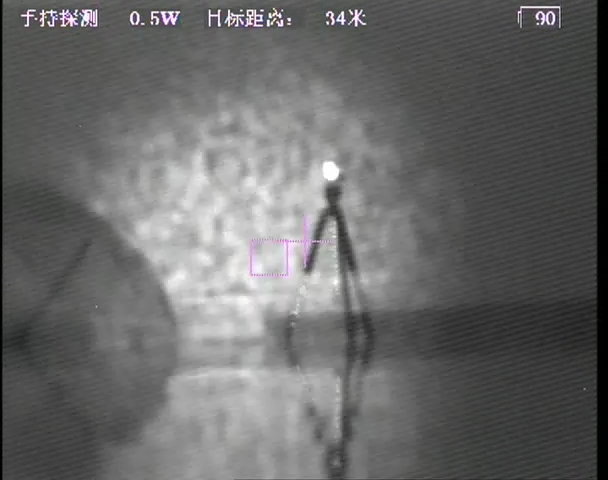my: (320, 162, 342, 182)
